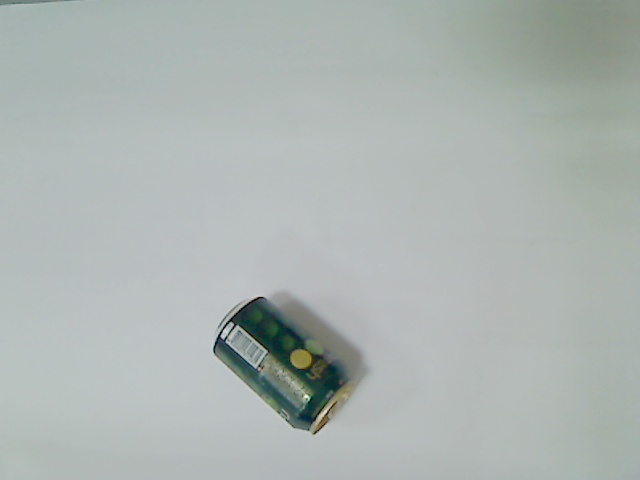can: (210, 294, 355, 436)
